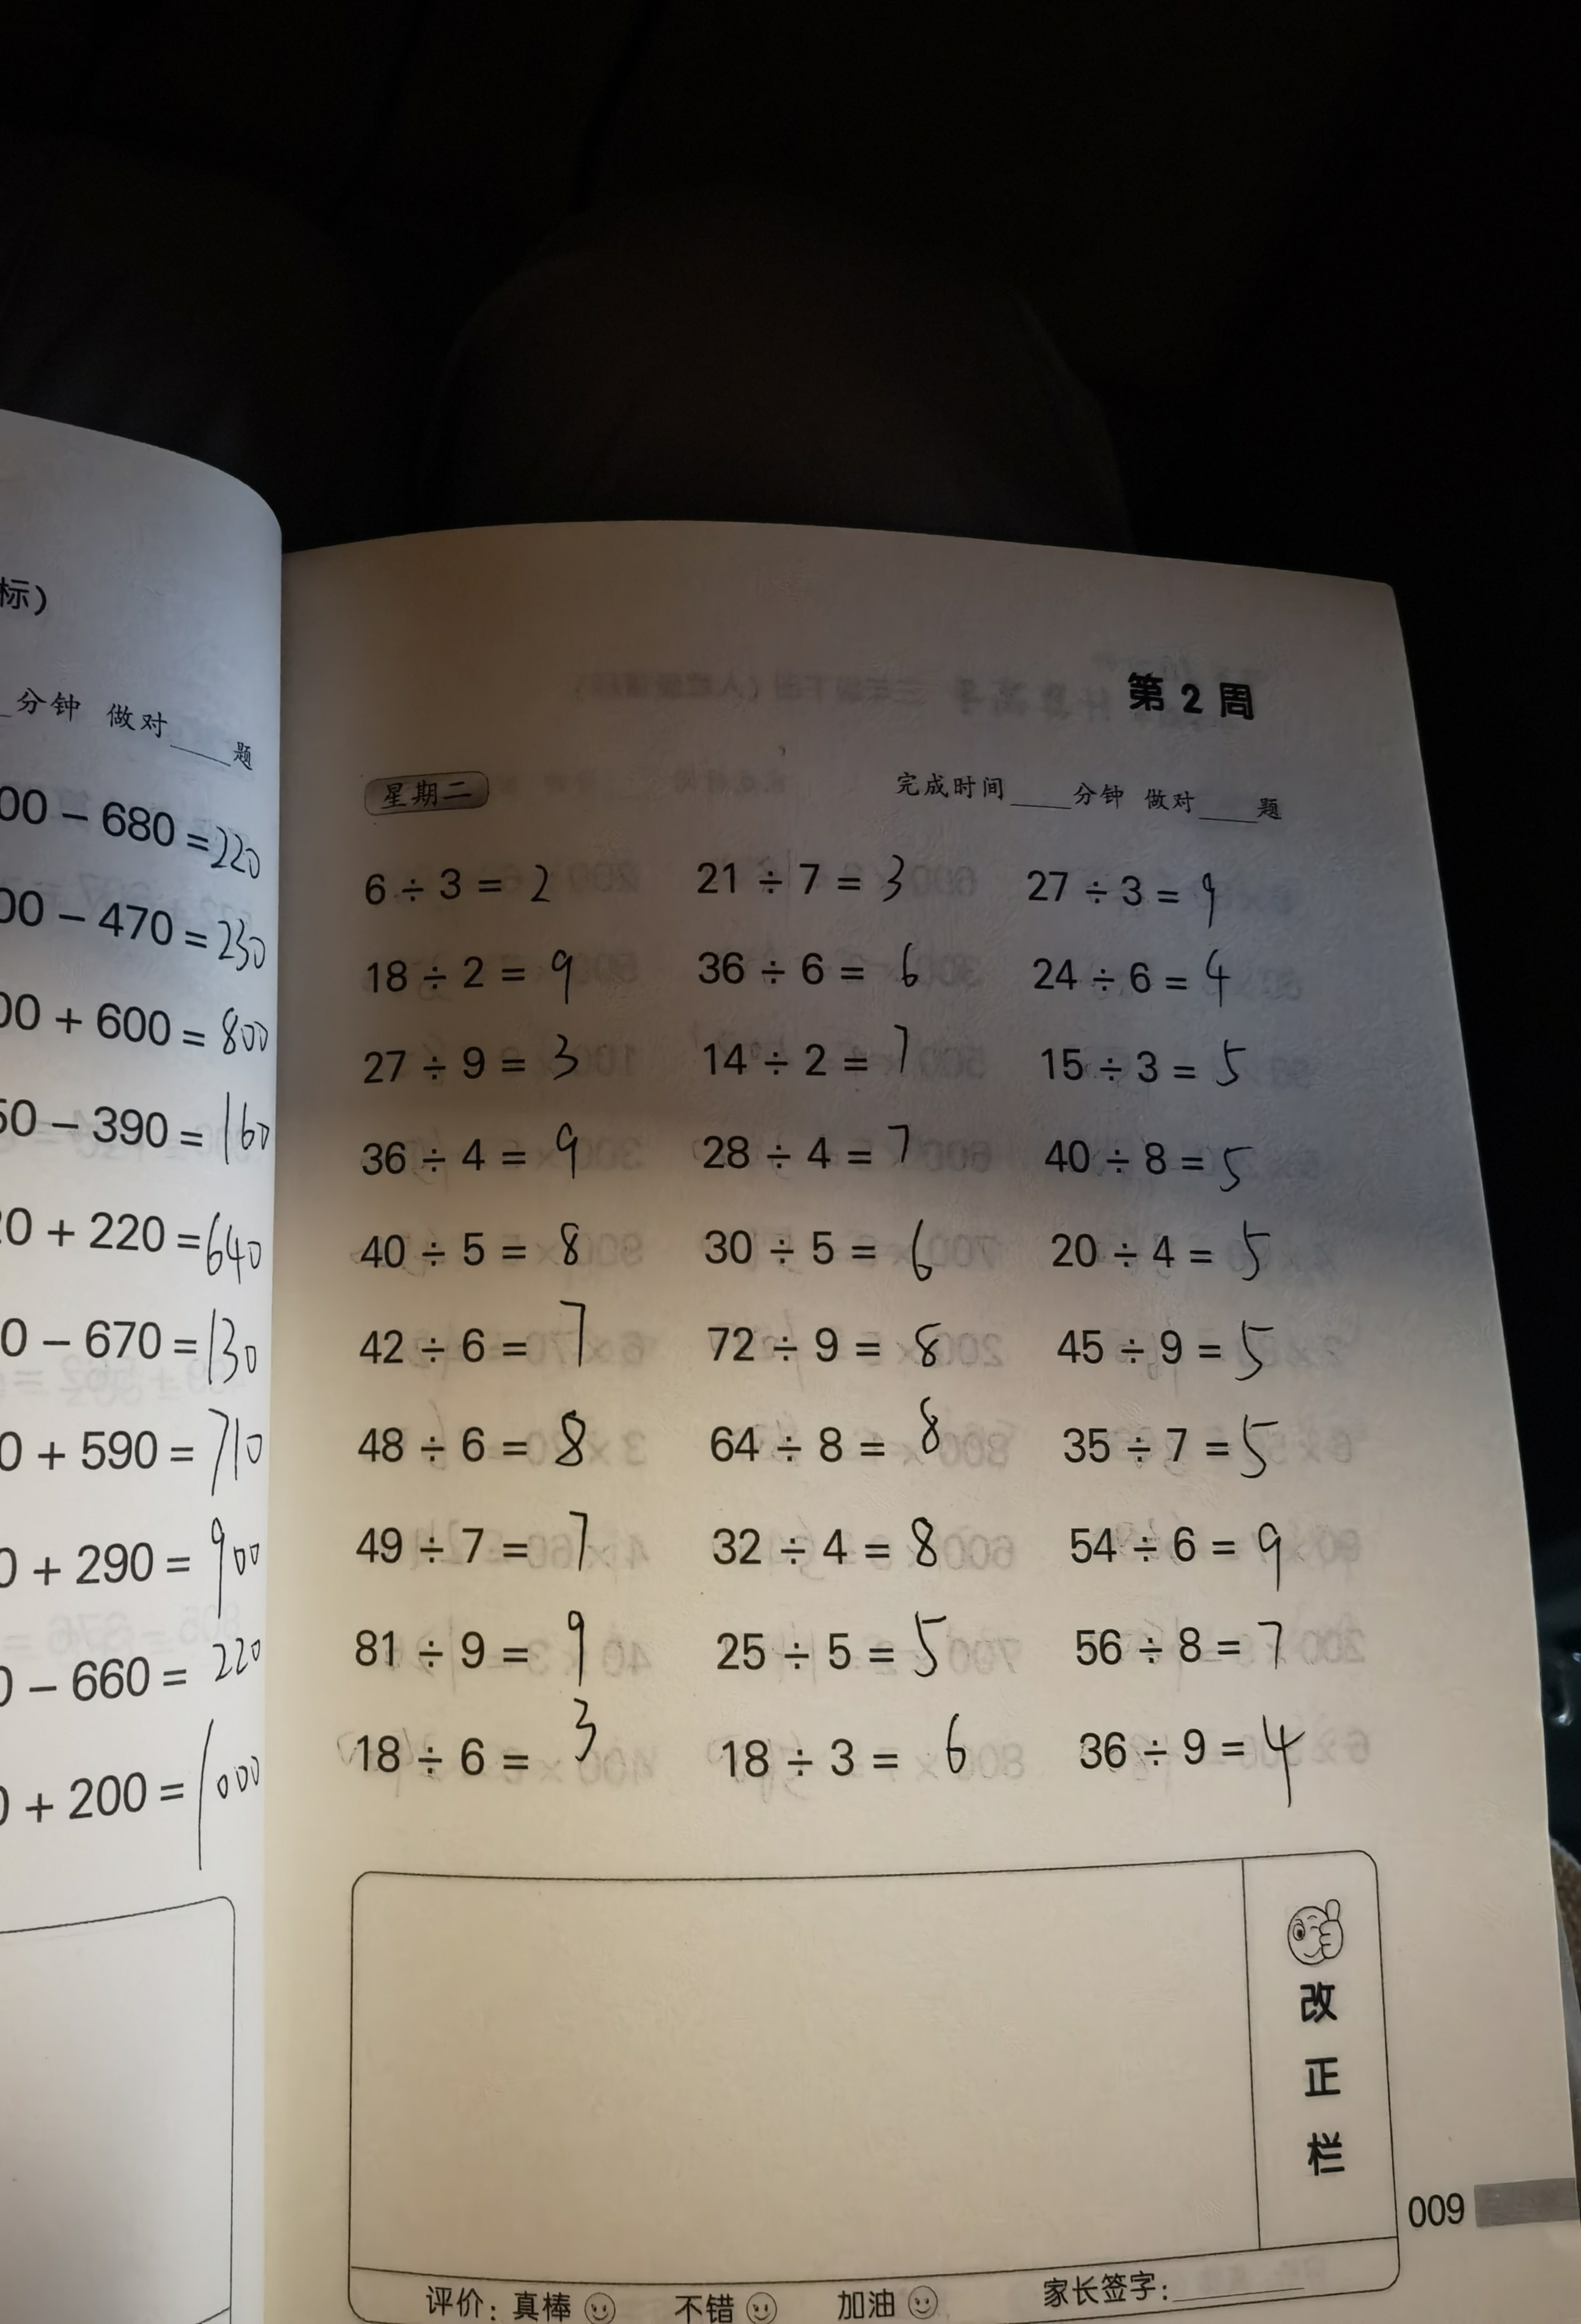equation: (325, 1696, 629, 1810), (712, 1707, 1017, 1810), (330, 1297, 641, 1397), (1042, 1502, 1359, 1600), (345, 1595, 644, 1697), (693, 1603, 986, 1701), (1077, 1711, 1340, 1815), (1039, 1307, 1312, 1407), (697, 1301, 1003, 1388), (695, 1496, 961, 1596), (700, 1391, 1001, 1476), (337, 1402, 621, 1488), (693, 1207, 978, 1289), (1039, 1220, 1313, 1304), (348, 1508, 636, 1588), (687, 825, 933, 919), (343, 939, 604, 1025), (350, 826, 578, 923), (690, 1021, 963, 1102), (689, 929, 960, 1010), (1007, 844, 1247, 936), (1032, 1028, 1279, 1112), (1052, 1410, 1330, 1484), (357, 1118, 612, 1197), (1054, 1615, 1323, 1688), (351, 1028, 618, 1101), (1017, 944, 1270, 1018), (341, 1216, 623, 1283), (1039, 1129, 1292, 1198), (692, 1125, 951, 1183)
